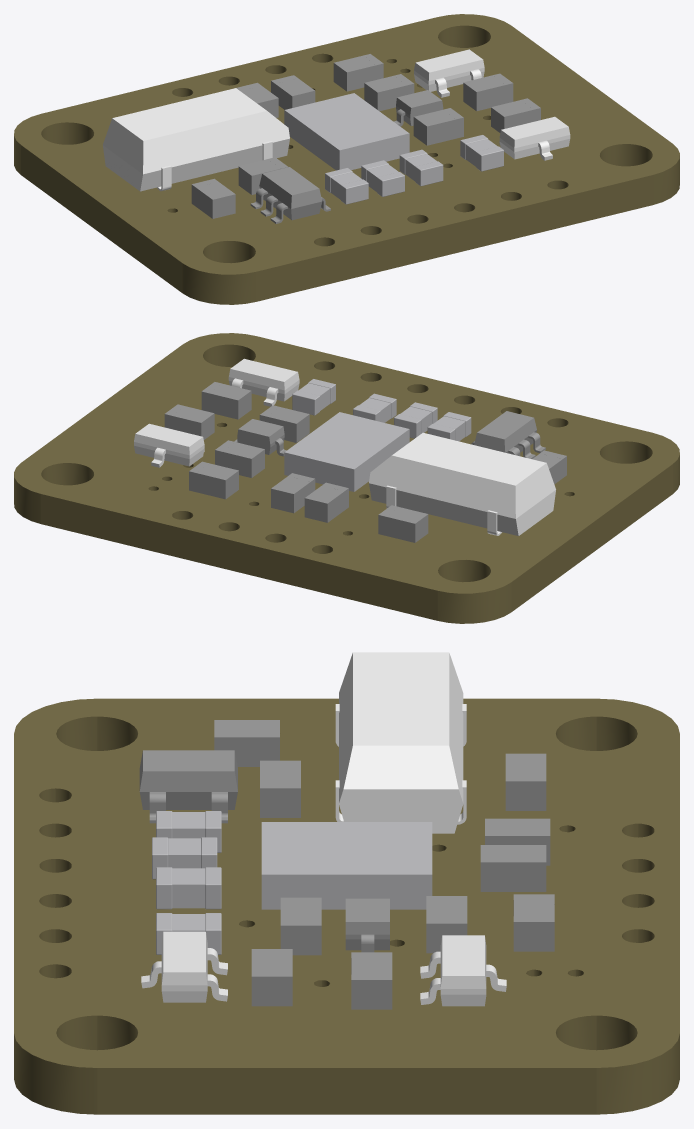
File: ada-2472.glb
3 views of the same model, one above another, from view 1: azimuth 30°, elevation 25°; view 2: azimuth 150°, elevation 25°; view 3: azimuth 270°, elevation 25° (orthographic). The views are drawn at different scales.
Parts seen in each view (by area): view 1: 0.16666666666666666_0.16666666666666666_0.08333333333333333_, 0.3333333333333333_0.3333333333333333_0.3333333333333333_0, 1_1_1_0.85, 0.5833333333333334_0.5833333333333334_0.5833333333333334_0.8, 0.9166666666666666_0.9166666666666666_0.9166666666666666_0.8; view 2: 0.16666666666666666_0.16666666666666666_0.08333333333333333_, 0.3333333333333333_0.3333333333333333_0.3333333333333333_0, 1_1_1_0.85, 0.5833333333333334_0.5833333333333334_0.5833333333333334_0.8, 0.9166666666666666_0.9166666666666666_0.9166666666666666_0.8; view 3: 0.16666666666666666_0.16666666666666666_0.08333333333333333_, 0.3333333333333333_0.3333333333333333_0.3333333333333333_0, 0.5833333333333334_0.5833333333333334_0.5833333333333334_0.8, 1_1_1_0.85, 0.9166666666666666_0.9166666666666666_0.9166666666666666_0.8.
Part boxes in pixels (x1,y1,x2,y2): 0.16666666666666666_0.16666666666666666_0.08333333333333333_: [14, 14, 679, 304]; 0.3333333333333333_0.3333333333333333_0.3333333333333333_0: [191, 54, 540, 223]; 1_1_1_0.85: [103, 88, 289, 191]; 0.5833333333333334_0.5833333333333334_0.5833333333333334_0.8: [284, 93, 503, 204]; 0.9166666666666666_0.9166666666666666_0.9166666666666666_0.8: [414, 49, 570, 160]; 0.16666666666666666_0.16666666666666666_0.08333333333333333_: [14, 333, 679, 623]; 0.3333333333333333_0.3333333333333333_0.3333333333333333_0: [164, 382, 566, 542]; 1_1_1_0.85: [369, 432, 555, 535]; 0.5833333333333334_0.5833333333333334_0.5833333333333334_0.8: [284, 379, 471, 491]; 0.9166666666666666_0.9166666666666666_0.9166666666666666_0.8: [134, 358, 299, 467]; 0.16666666666666666_0.16666666666666666_0.08333333333333333_: [14, 698, 679, 1114]; 0.3333333333333333_0.3333333333333333_0.3333333333333333_0: [139, 720, 554, 1009]; 0.5833333333333334_0.5833333333333334_0.5833333333333334_0.8: [152, 811, 432, 954]; 1_1_1_0.85: [335, 652, 466, 833]; 0.9166666666666666_0.9166666666666666_0.9166666666666666_0.8: [141, 931, 506, 1006].
Bounding box in the file's own units: 2.67 × 0.423 × 2.03.
